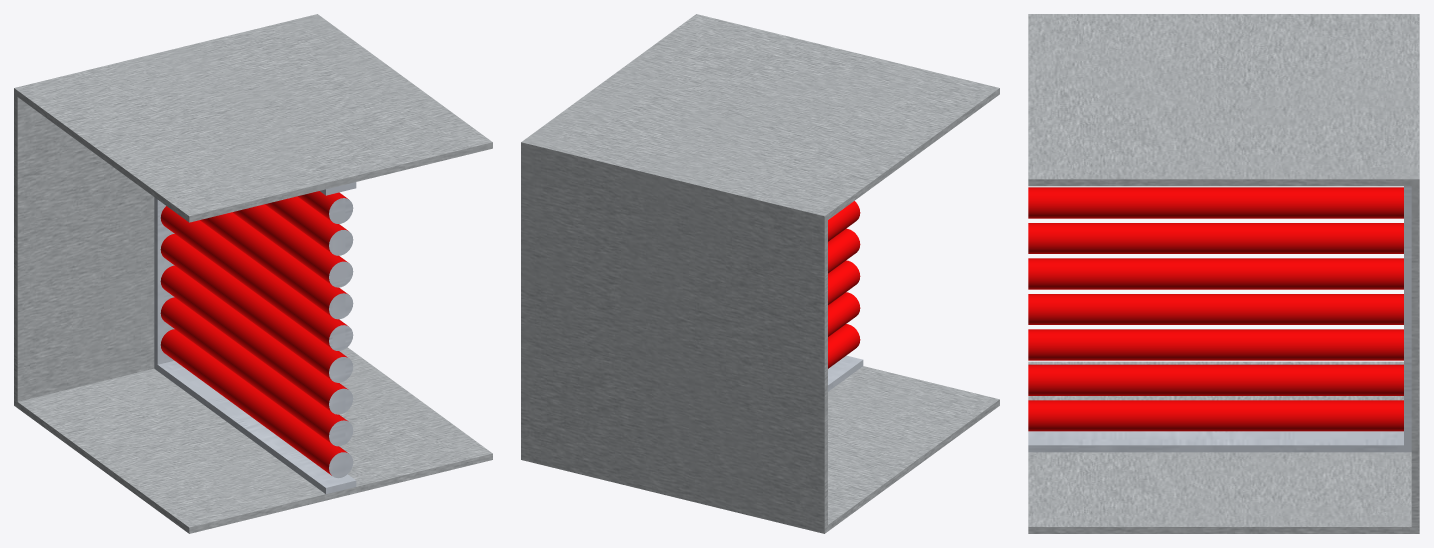
The model's file is Duct_EW_Htg_1m.gltf.
The picture shows the model from 3 angles, left to right: view 1: azimuth 30°, elevation 25°; view 2: azimuth 150°, elevation 25°; view 3: azimuth 270°, elevation 25°; orthographic projection. The views are drawn at different scales.
Visible parts, largest first — view 1: root; view 2: root; view 3: root.
Boxes of the visible parts, bbox=[...] form: root: bbox=[14, 14, 492, 533]; root: bbox=[521, 14, 999, 533]; root: bbox=[1028, 14, 1419, 533].
Bounding box in the file's own units: 1 × 1 × 1.
3 materials, 2 textured.
